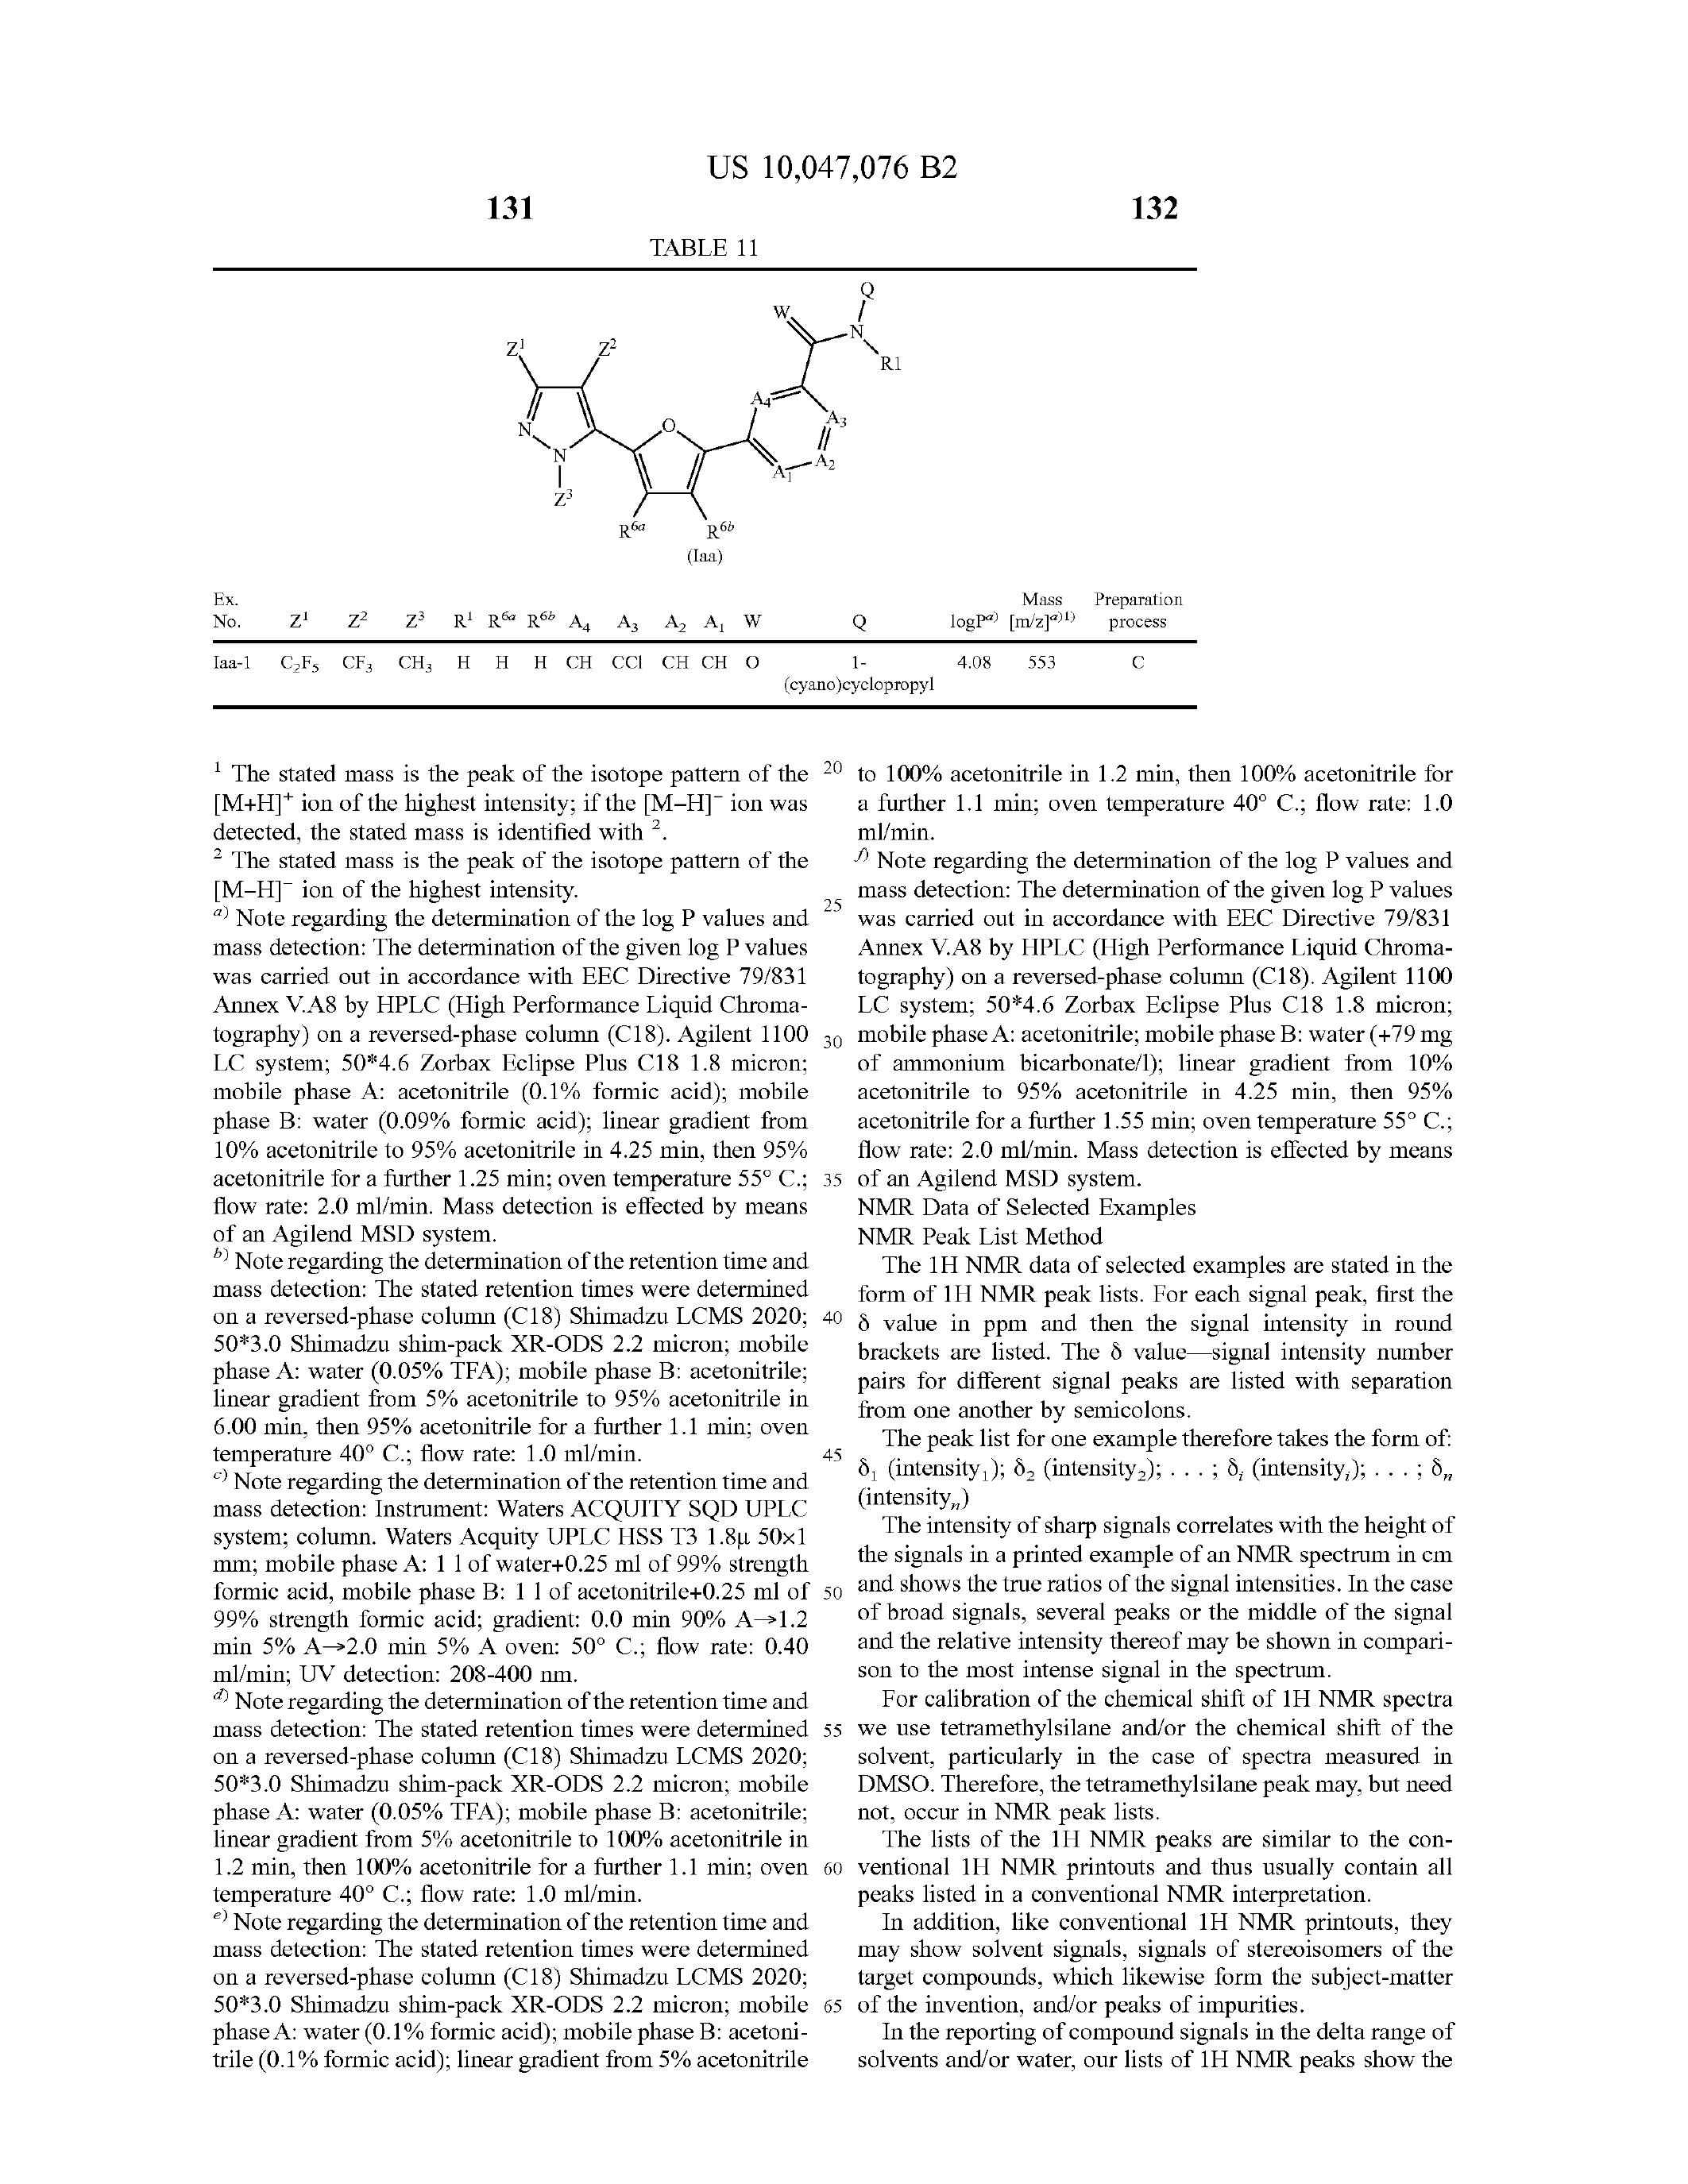relevant-structures: (427, 277, 1000, 599)
